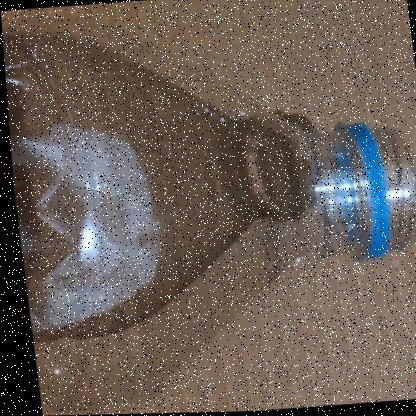open bottle: (113, 12, 416, 374)
